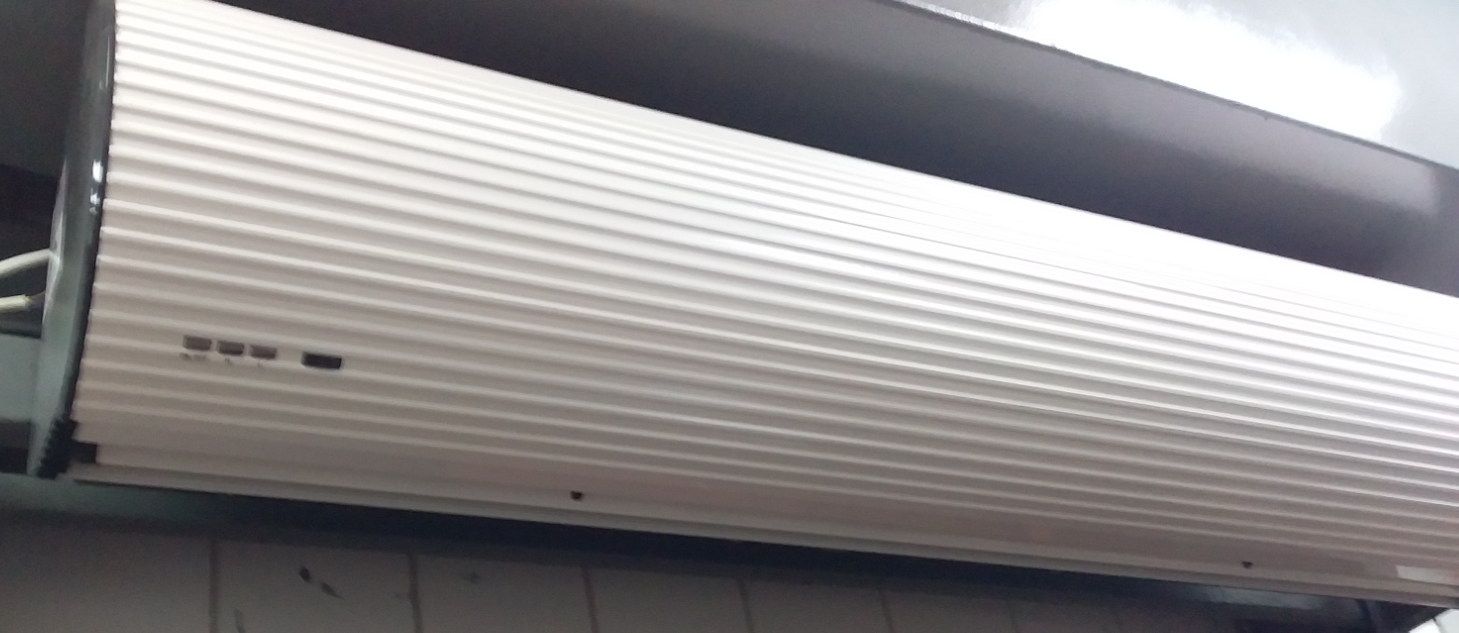Air Curtain: (19, 4, 1459, 599)
